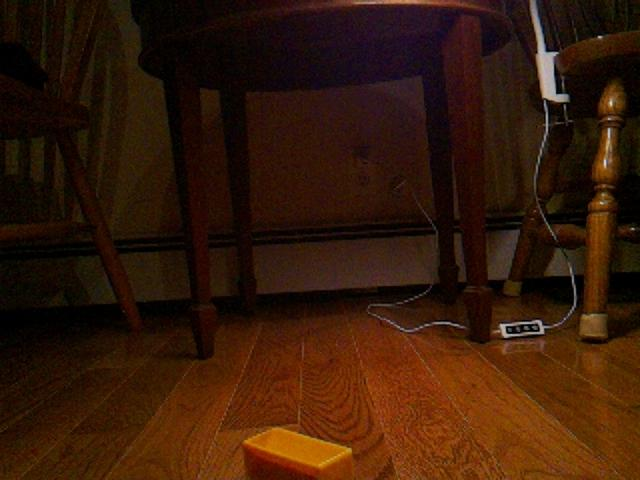yellow: (241, 426, 356, 480)
